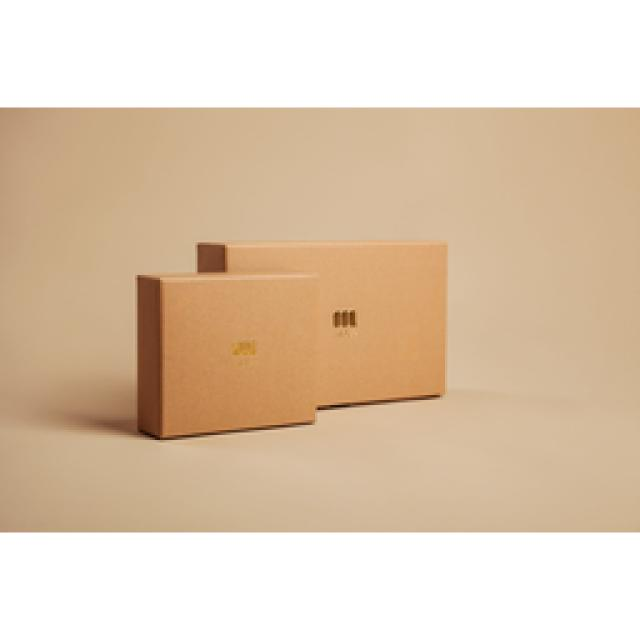cardboard: (138, 240, 445, 438)
